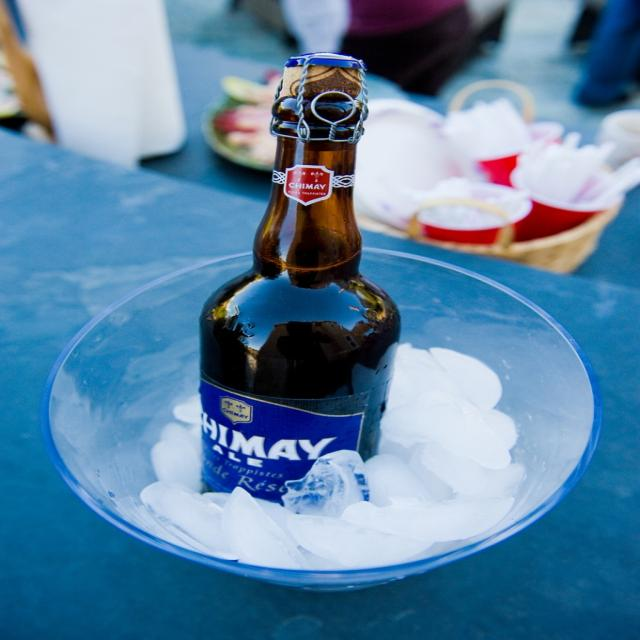chimay: (201, 379, 365, 507)
